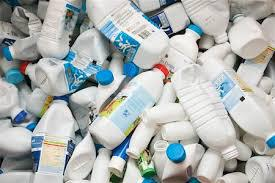Plastic: (87, 63, 171, 155), (170, 60, 241, 161), (80, 0, 175, 71), (29, 93, 78, 182), (40, 0, 86, 65), (180, 0, 236, 48), (226, 12, 270, 63), (159, 143, 207, 182), (138, 98, 188, 125), (0, 81, 29, 123)
